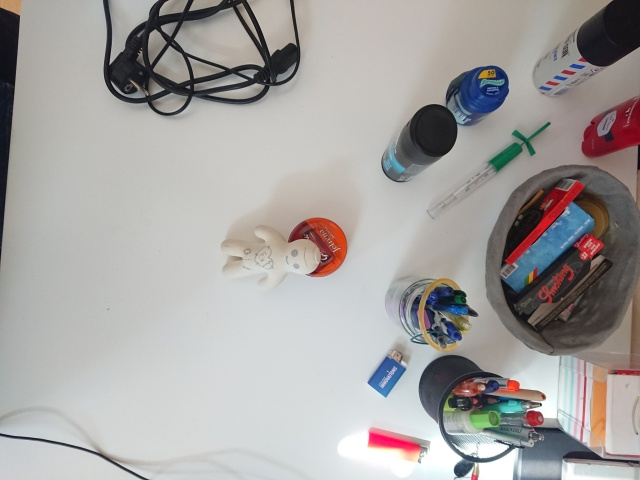Gavrilovic Pork Liver Pate 100g: (285, 215, 349, 278)
